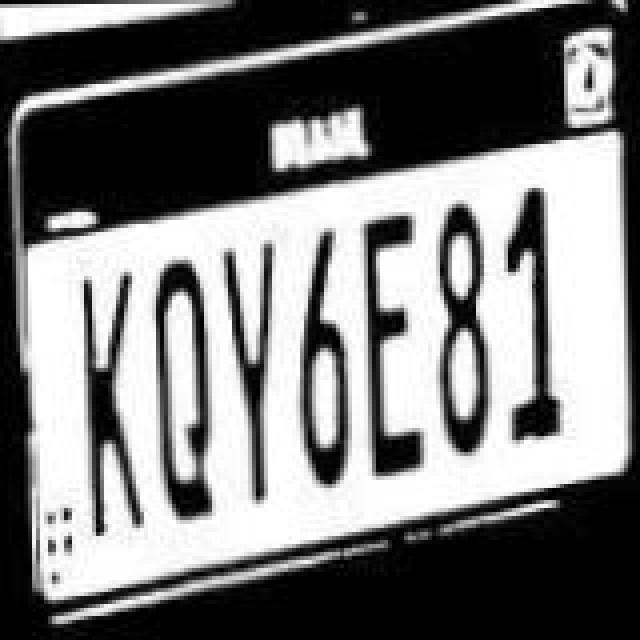1: (498, 180, 566, 444)
6: (290, 226, 358, 490)
8: (426, 202, 502, 462)
E: (350, 210, 426, 478)
K: (76, 276, 144, 540)
Q: (146, 254, 218, 522)
Y: (220, 246, 284, 506)
